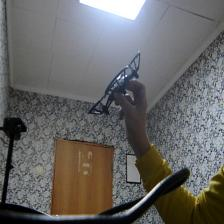drone: (89, 51, 146, 126)
